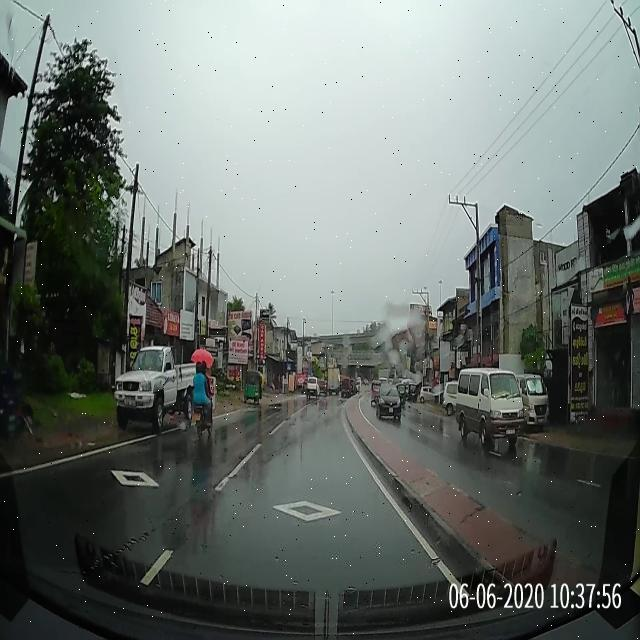diamond: (172, 478, 448, 564)
